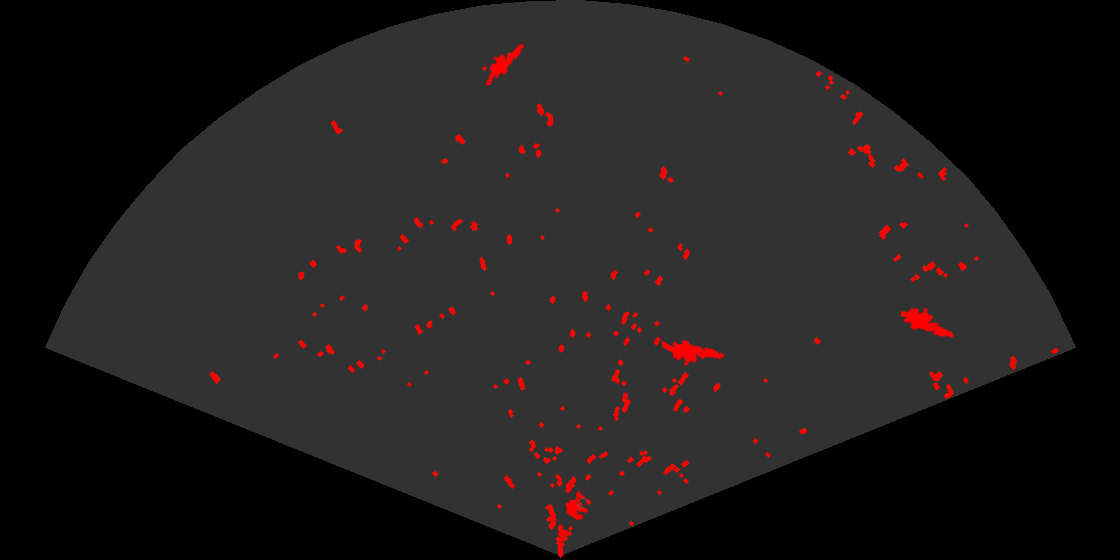ball: (564, 491, 593, 522)
frogman: (483, 36, 526, 85), (662, 338, 726, 367), (901, 306, 956, 339)
